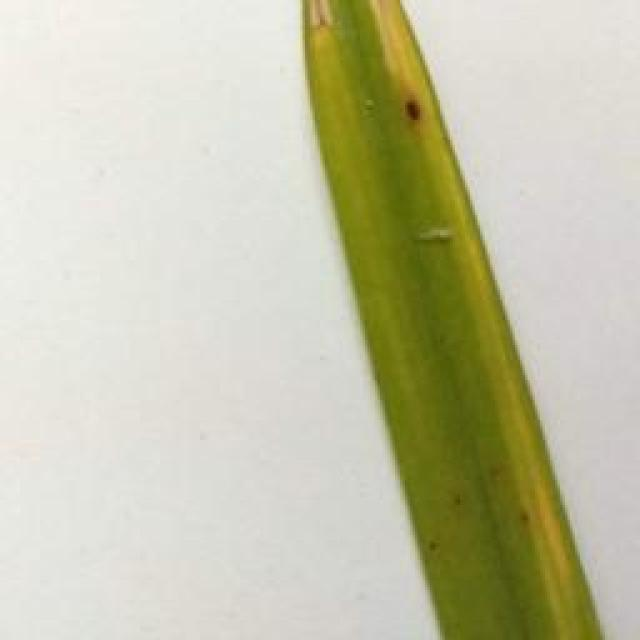Brown_Spot: (403, 78, 426, 130), (482, 464, 507, 484), (515, 507, 537, 529), (446, 494, 464, 516), (424, 540, 439, 554)
